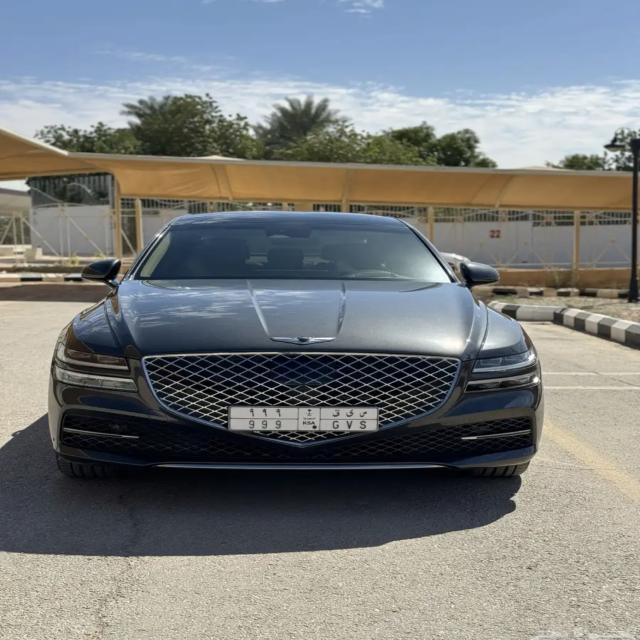license_plate: (228, 404, 382, 432)
